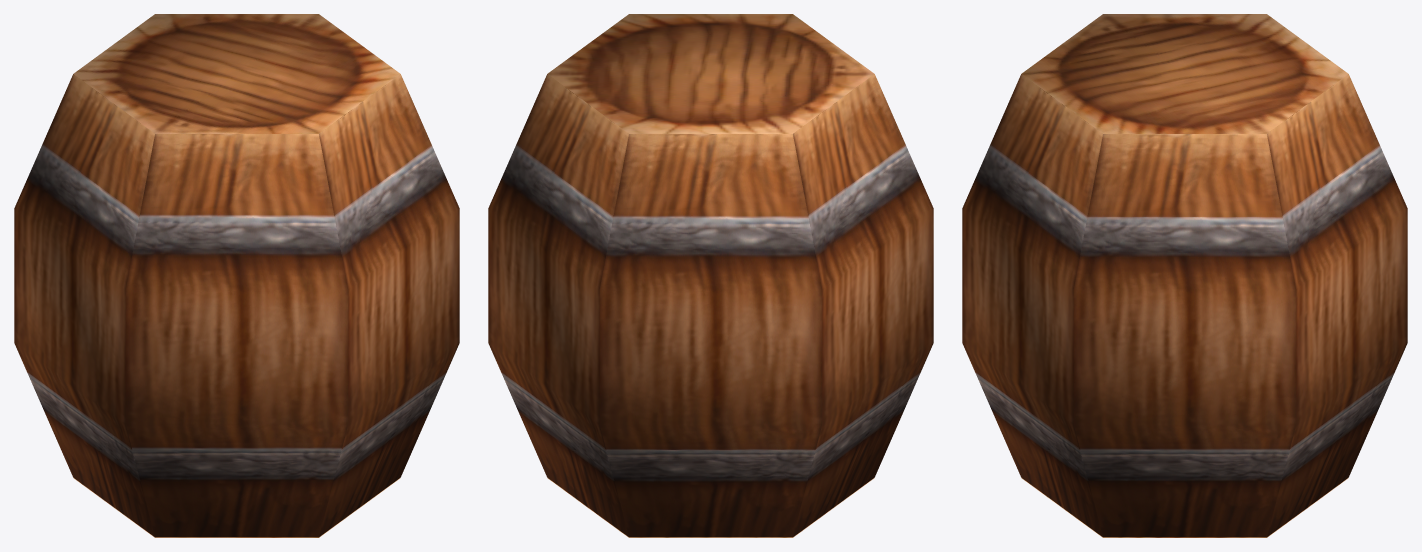
Rendered from barrel01.obj.
3 renders of one model, left to right at view 1: azimuth 30°, elevation 25°; view 2: azimuth 150°, elevation 25°; view 3: azimuth 270°, elevation 25°, orthographic.
Visible parts, largest first — view 1: barrel01; view 2: barrel01; view 3: barrel01.
Boxes of the visible parts, x1,y1,x2,y2 form: barrel01: [14, 14, 459, 537]; barrel01: [488, 14, 933, 537]; barrel01: [962, 14, 1407, 537].
Size of the model in its own units: 0.8592 by 0.9933 by 0.9921.
1 material, 1 textured.
